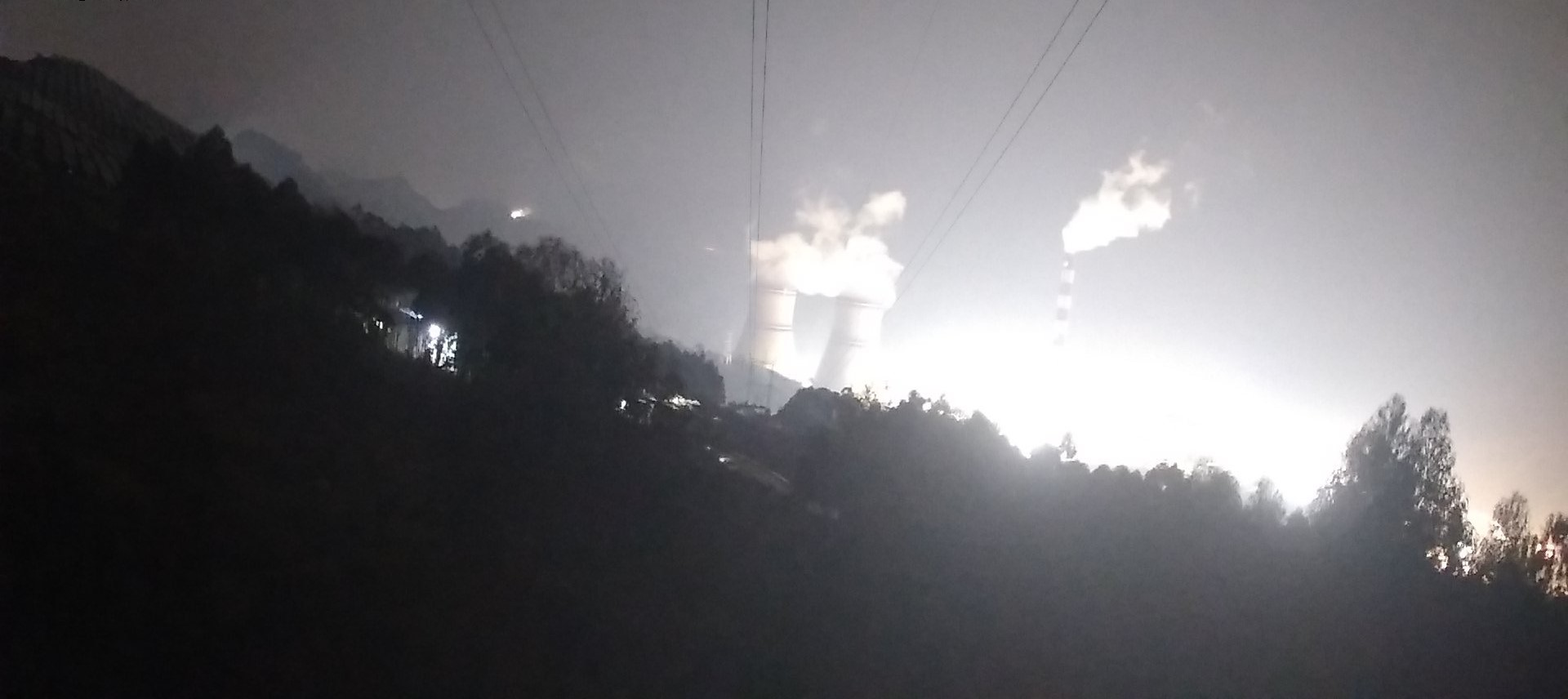工厂排烟: (1061, 144, 1192, 265), (823, 189, 907, 308), (750, 189, 828, 296)
